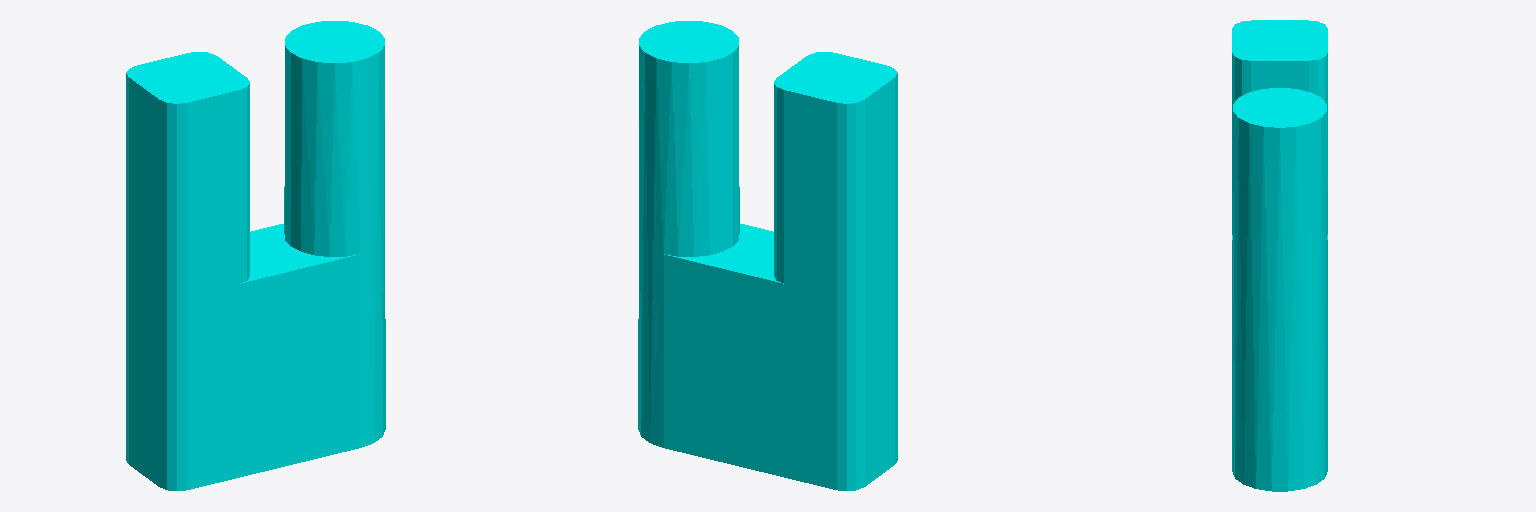
URDF robot description (Large_Short_SquareCircle_JeansRed):
<?xml version="1.0"?>
<robot name="Large_Short_SquareCircle_JeansRed">
    <link name="Large_Short_SquareCircle_JeansRed">
        <visual>
            <geometry>
                <mesh filename="../mesh/factory_insertion/Large_Short_SquareCircle_JeansRed.obj" scale="0.001 0.001 0.001"/>
            </geometry>
            <material name="JeansRed">
              <color rgba="0 1.0 1.0 1.0"/>
            </material>
        </visual>
        <collision>
            <geometry>
                <mesh filename="../mesh/factory_insertion/Large_Short_SquareCircle_JeansRed.obj" scale="0.001 0.001 0.001"/>
            </geometry>
            <sdf resolution="512"/>
        </collision>
    </link>
</robot>

--- What the picture shows (computed from the rendered views, not written in the file) ---
The picture shows the robot from 3 angles, left to right: view 1: azimuth 30°, elevation 25°; view 2: azimuth 150°, elevation 25°; view 3: azimuth 270°, elevation 25°; orthographic projection.
Robot: Large_Short_SquareCircle_JeansRed — 1 links, 0 joints (none); root link Large_Short_SquareCircle_JeansRed; default pose: all joints at 0.
Links seen in each view (by area): view 1: Large_Short_SquareCircle_JeansRed; view 2: Large_Short_SquareCircle_JeansRed; view 3: Large_Short_SquareCircle_JeansRed.
Link boxes in pixels (x1=…): Large_Short_SquareCircle_JeansRed: x1=126, y1=21, x2=385, y2=490; Large_Short_SquareCircle_JeansRed: x1=638, y1=21, x2=897, y2=490; Large_Short_SquareCircle_JeansRed: x1=1232, y1=20, x2=1327, y2=491.
Bounding box of the posed robot: 0.0634 × 0.0238 × 0.1 m (x, y, z).
1 mesh visuals loaded from 1 distinct referenced files (1 OBJ).
